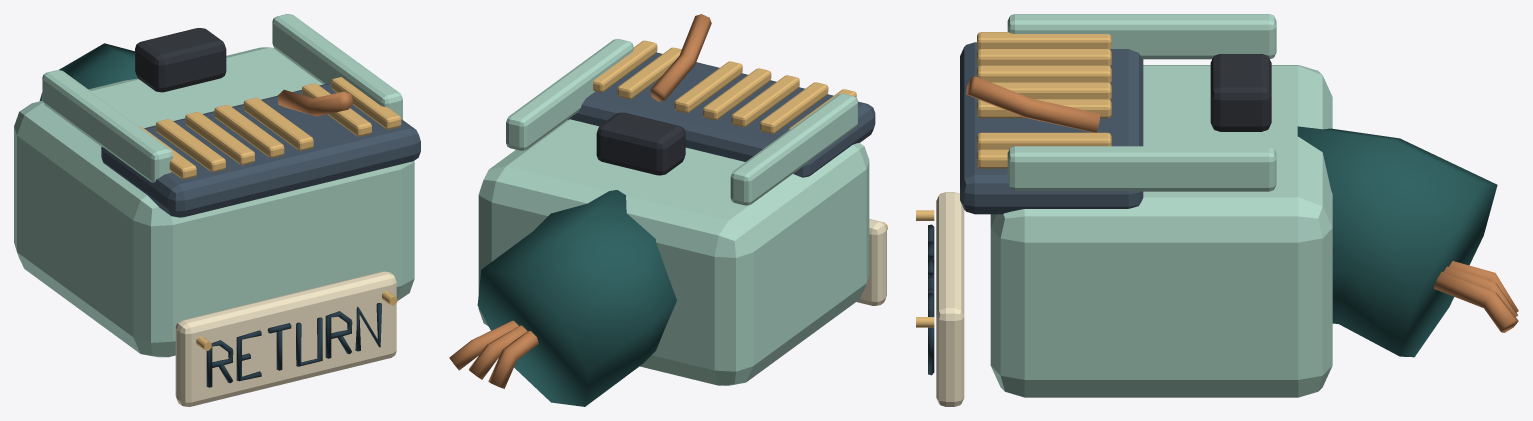
3 renders of one model, left to right at view 1: azimuth 30°, elevation 25°; view 2: azimuth 150°, elevation 25°; view 3: azimuth 270°, elevation 25°, orthographic. The views are drawn at different scales.
Visible parts, largest first — view 1: PR028 workshop surfaces; view 2: PR028 workshop surfaces; view 3: PR028 workshop surfaces.
Boxes of the visible parts, box(x1,y1,x2,y2) form: PR028 workshop surfaces: box(14, 14, 420, 406); PR028 workshop surfaces: box(449, 14, 887, 406); PR028 workshop surfaces: box(916, 14, 1518, 406).
Size of the model in its own units: 0.2513 by 0.2282 by 0.4.
